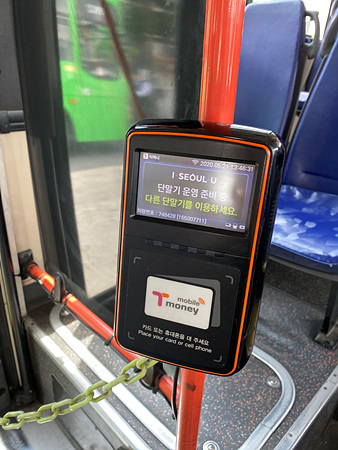terminal: (120, 122, 263, 369)
